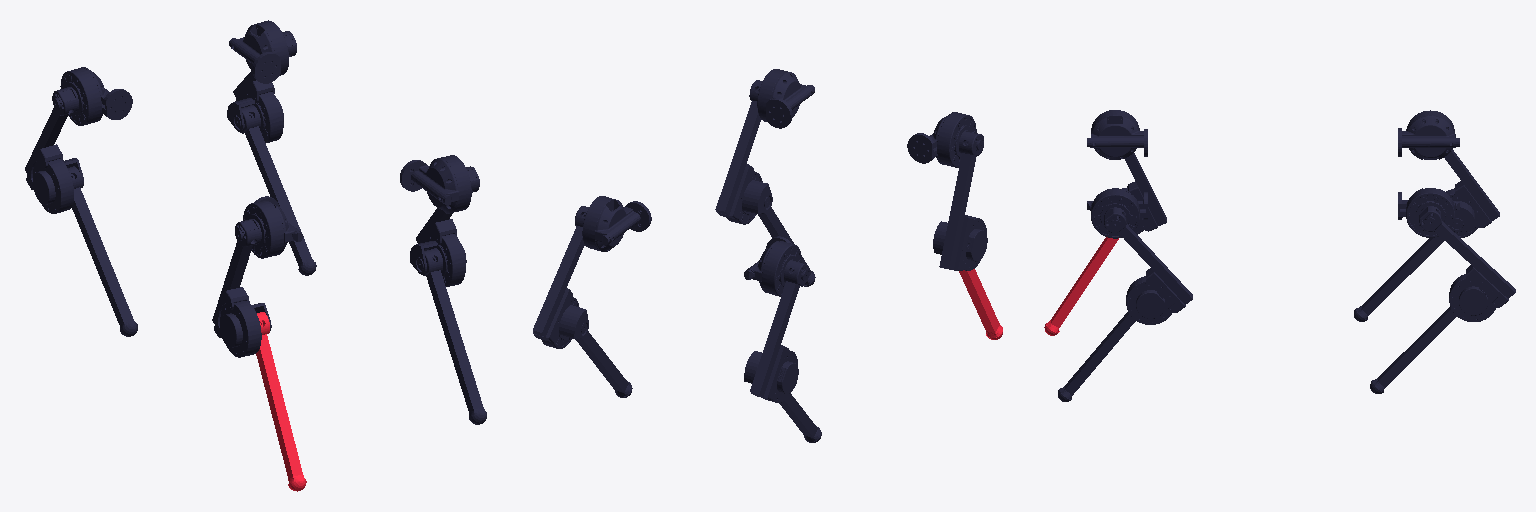
The robot description file, URDF, robot "ruff":
<?xml version="1.0" encoding="utf-8"?>
<!-- This URDF was automatically created by SolidWorks to URDF Exporter! Originally created by [author] ([email redacted])
     Commit Version: 1.6.0-4-g7f85cfe  Build Version: 1.6.7995.38578
     For more information, please see http://wiki.ros.org/sw_urdf_exporter -->
<robot name="ruff">

<!-- ros control plugin -->
  <gazebo>
      <plugin name="gazebo_ros_control" filename="libgazebo_ros_control.so">
          <robotNamespace>/ruff</robotNamespace>
          <robotSimType>gazebo_ros_control/DefaultRobotHWSim</robotSimType>
      </plugin>
  </gazebo>
<!-- adding imu sensor to the base link -->
<!--IMU : joint , link , sensor  -->

  <link
    name="base_link">
    <inertial>
      <origin
        xyz="-0.0142290244244959 -0.00460114334157358 -0.0157981758302379"
        rpy="0 0 0" />
      <mass
        value="2.49007846050021" />
      <inertia
        ixx="0.00625744875770968"
        ixy="-1.59495229293445E-11"
        ixz="-2.61866110672266E-14"
        iyy="0.00489492059233199"
        iyz="7.8598187747419E-15"
        izz="0.00969112831967179" />
    </inertial>
    <visual>
      <origin
        xyz="0 0 0"
        rpy="0 0 0" />
      <geometry>
        <mesh
          filename="../ruff/meshes/base_link.STL" />
      </geometry>
      <material
        name="">
        <color
          rgba="0.7 0.7 0.9 1" />
      </material>
    </visual>
    <collision>
      <origin
        xyz="0 0 0"
        rpy="0 0 0" />
      <geometry>
        <mesh
          filename="../ruff/meshes/base_link.STL" />
      </geometry>
    </collision>
  </link>
  <link
    name="FR1">
    <inertial>
      <origin
        xyz="0.02612 0.00074305 0.061212"
        rpy="0 0 0" />
      <mass
        value="0.35871" />
      <inertia
        ixx="0.00044328"
        ixy="-1.6766E-06"
        ixz="-9.9068E-06"
        iyy="0.0003145"
        iyz="-2.576E-06"
        izz="0.00020521" />
    </inertial>
    <visual>
      <origin
        xyz="0 0 0"
        rpy="0 0 0" />
      <geometry>
        <mesh
          filename="../ruff/meshes/FR1.STL" />
      </geometry>
      <material
        name="">
        <color
          rgba="0.2 0.2 0.3 1" />
      </material>
    </visual>
    <collision>
      <origin
        xyz="0 0 0"
        rpy="0 0 0" />
      <geometry>
        <mesh
          filename="../ruff/meshes/FR1.STL" />
      </geometry>
    </collision>
  </link>
  <joint
    name="FR1_"
    type="revolute">
    <origin
      xyz="-0.16423 -0.26924 -0.015798"
      rpy="-1.5708 -0.011393 3.1416" />
    <parent
      link="base_link" />
    <child
      link="FR1" />
    <axis
      xyz="0 0 1" />
    <limit
      lower="0"
      upper="0"
      effort="200"
      velocity="10" />
  </joint>
  <link
    name="FR2">
    <inertial>
      <origin
        xyz="-0.050266902975153 -0.153493314443097 -0.0344873618774016"
        rpy="0 0 0" />
      <mass
        value="0.421019079143915" />
      <inertia
        ixx="0.000852068112953311"
        ixy="3.19242906120105E-06"
        ixz="-6.61267552894505E-06"
        iyy="0.000307852923020911"
        iyz="-0.000225635506155653"
        izz="0.00065120696734265" />
    </inertial>
    <visual>
      <origin
        xyz="0 0 0"
        rpy="0 0 0" />
      <geometry>
        <mesh
          filename="../ruff/meshes/FR2.STL" />
      </geometry>
      <material
        name="">
        <color
          rgba="0.2 0.2 0.3 1" />
      </material>
    </visual>
    <collision>
      <origin
        xyz="0 0 0"
        rpy="0 0 0" />
      <geometry>
        <mesh
          filename="../ruff/meshes/FR2.STL" />
      </geometry>
    </collision>
  </link>
  <joint
    name="FR2_"
    type="revolute">
    <origin
      xyz="0.018006 0 0.065"
      rpy="-0.03726 0 -3.1416" />
    <parent
      link="FR1" />
    <child
      link="FR2" />
    <axis
      xyz="1 0 0" />
    <limit
      lower="-0.785398"
      upper="0.785398"
      effort="200"
      velocity="10" />
  </joint>
  <link
    name="FR3">
    <inertial>
      <origin
        xyz="0.0199426770443697 -0.075980779995663 0.092845524022024"
        rpy="0 0 0" />
      <mass
        value="0.155935206674882" />
      <inertia
        ixx="0.0011552209842016"
        ixy="-4.6955016006765E-08"
        ixz="5.86784342700648E-08"
        iyy="0.000710580255126011"
        iyz="0.000554725888406585"
        izz="0.000459413413981537" />
    </inertial>
    <visual>
      <origin
        xyz="0 0.06 -0.01"
        rpy="0 0 0" />
      <geometry>
        <mesh
          filename="../ruff/meshes/FR3.STL" />
      </geometry>
      <material
        name="">
        <color
          rgba="1 0.2 0.3 1" />
      </material>
    </visual>
    <collision>
      <origin
        xyz="0 0.06 -0.01"
        rpy="0 0 0" />
      <geometry>
        <mesh
          filename="../ruff/meshes/FR3.STL" />
      </geometry>
    </collision>
  </link>
  <joint
    name="FR3_"
    type="revolute">
    <origin
      xyz="0 -0.1903 -0.02764"
      rpy="-1.7406 0 3.1416" />
    <parent
      link="FR2" />
    <child
      link="FR3" />
    <axis
      xyz="1 0 0" />
    <limit
      lower="-0.785398"
      upper="0.785398"
      effort="200"
      velocity="10" />
  </joint>
  <link
    name="FL1">
    <inertial>
      <origin
        xyz="0.0261197583641308 0.000743054536176027 0.0612123080676893"
        rpy="0 0 0" />
      <mass
        value="0.358709196894451" />
      <inertia
        ixx="0.000443275444835995"
        ixy="-1.67660322189517E-06"
        ixz="-9.90676696217071E-06"
        iyy="0.00031449685518571"
        iyz="-2.57603919878303E-06"
        izz="0.000205207659288229" />
    </inertial>
    <visual>
      <origin
        xyz="0 0 0"
        rpy="0 0 0" />
      <geometry>
        <mesh
          filename="../ruff/meshes/FL1.STL" />
      </geometry>
      <material
        name="">
        <color
          rgba="0.2 0.2 0.3 1" />
      </material>
    </visual>
    <collision>
      <origin
        xyz="0 0 0"
        rpy="0 0 0" />
      <geometry>
        <mesh
          filename="../ruff/meshes/FL1.STL" />
      </geometry>
    </collision>
  </link>
  <joint
    name="FL1_"
    type="revolute">
    <origin
      xyz="0.13577 -0.26924 -0.015798"
      rpy="1.5708 0.011393 0" />
    <parent
      link="base_link" />
    <child
      link="FL1" />
    <axis
      xyz="0 0 1" />
    <limit
      lower="0"
      upper="0"
      effort="200"
      velocity="10" />
  </joint>
  <link
    name="FL2">
    <inertial>
      <origin
        xyz="0.0502668928026236 -0.134428755267542 -0.0817222290827659"
        rpy="0 0 0" />
      <mass
        value="0.421019703345601" />
      <inertia
        ixx="0.000852068973984816"
        ixy="-5.13768905823175E-06"
        ixz="5.24616551512842E-06"
        iyy="0.000479532720674914"
        iyz="-0.000283522017133229"
        izz="0.000479528178086577" />
    </inertial>
    <visual>
      <origin
        xyz="0 0 0"
        rpy="0 0 0" />
      <geometry>
        <mesh
          filename="../ruff/meshes/FL2.STL" />
      </geometry>
      <material
        name="">
        <color
          rgba="0.2 0.2 0.3 1" />
      </material>
    </visual>
    <collision>
      <origin
        xyz="0 0 0"
        rpy="0 0 0" />
      <geometry>
        <mesh
          filename="../ruff/meshes/FL2.STL" />
      </geometry>
    </collision>
  </link>
  <joint
    name="FL2_"
    type="revolute">
    <origin
      xyz="0.018006 0 0.065"
      rpy="-0.088438 0 0" />
    <parent
      link="FL1" />
    <child
      link="FL2" />
    <axis
      xyz="1 0 0" />
    <limit
      lower="-0.785398"
      upper="0.785398"
      effort="200"
      velocity="10" />
  </joint>
  <link
    name="FL3">
    <inertial>
      <origin
        xyz="0.0199426806750425 -0.0857712325916279 0.0854478393872552"
        rpy="0 0 0" />
      <mass
        value="0.155935356866044" />
      <inertia
        ixx="0.0011552225827831"
        ixy="-5.31526893077721E-08"
        ixz="5.30688563552087E-08"
        iyy="0.000584997668322056"
        iyz="0.000568764371262009"
        izz="0.000584997612289208" />
    </inertial>
    <visual>
      <origin
        xyz="0 0 0"
        rpy="0 0 0" />
      <geometry>
        <mesh
          filename="../ruff/meshes/FL3.STL" />
      </geometry>
      <material
        name="">
        <color
          rgba="0.2 0.2 0.3 1" />
      </material>
    </visual>
    <collision>
      <origin
        xyz="0 0 0"
        rpy="0 0 0" />
      <geometry>
        <mesh
          filename="../ruff/meshes/FL3.STL" />
      </geometry>
    </collision>
  </link>
  <joint
    name="FL3_"
    type="revolute">
    <origin
      xyz="0 -0.1703 -0.08624"
      rpy="0.22102 0 0" />
    <parent
      link="FL2" />
    <child
      link="FL3" />
    <axis
      xyz="1 0 0" />
    <limit
      lower="-0.785398"
      upper="0.785398"
      effort="200"
      velocity="10" />
  </joint>
  <link
    name="RR1">
    <inertial>
      <origin
        xyz="0.0261197575907565 0.000743055572698423 0.0612123099905451"
        rpy="0 0 0" />
      <mass
        value="0.358709202698084" />
      <inertia
        ixx="0.0004432754734531"
        ixy="-1.67659525417638E-06"
        ixz="-9.90676738149078E-06"
        iyy="0.000314496875947001"
        iyz="-2.57604485783384E-06"
        izz="0.000205207645858766" />
    </inertial>
    <visual>
      <origin
        xyz="0 0 0"
        rpy="0 0 0" />
      <geometry>
        <mesh
          filename="../ruff/meshes/RR1.STL" />
      </geometry>
      <material
        name="">
        <color
          rgba="0.2 0.2 0.3 1" />
      </material>
    </visual>
    <collision>
      <origin
        xyz="0 0 0"
        rpy="0 0 0" />
      <geometry>
        <mesh
          filename="../ruff/meshes/RR1.STL" />
      </geometry>
    </collision>
  </link>
  <joint
    name="RR1_"
    type="revolute">
    <origin
      xyz="-0.16423 0.23276 -0.015798"
      rpy="1.5708 0.041554 -3.1416" />
    <parent
      link="base_link" />
    <child
      link="RR1" />
    <axis
      xyz="0 0 1" />
    <limit
      lower="0"
      upper="0"
      effort="200"
      velocity="10" />
  </joint>
  <link
    name="RR2">
    <inertial>
      <origin
        xyz="-0.06160606177425 -0.134428666689823 -0.0817221421337367"
        rpy="0 0 0" />
      <mass
        value="0.421019010101391" />
      <inertia
        ixx="0.0008520681443469"
        ixy="5.13787082493573E-06"
        ixz="-5.2460513438586E-06"
        iyy="0.00047953206951041"
        iyz="-0.000283521501202046"
        izz="0.000479527873883991" />
    </inertial>
    <visual>
      <origin
        xyz="0 0 0"
        rpy="0 0 0" />
      <geometry>
        <mesh
          filename="../ruff/meshes/RR2.STL" />
      </geometry>
      <material
        name="">
        <color
          rgba="0.2 0.2 0.3 1" />
      </material>
    </visual>
    <collision>
      <origin
        xyz="0 0 0"
        rpy="0 0 0" />
      <geometry>
        <mesh
          filename="../ruff/meshes/RR2.STL" />
      </geometry>
    </collision>
  </link>
  <joint
    name="RR2_"
    type="revolute">
    <origin
      xyz="0.0066673 0 0.065"
      rpy="2.9579 0 -3.1416" />
    <parent
      link="RR1" />
    <child
      link="RR2" />
    <axis
      xyz="1 0 0" />
    <limit
      lower="-0.785398"
      upper="0.785398"
      effort="200"
      velocity="10" />
  </joint>
  <link
    name="RR3">
    <inertial>
      <origin
        xyz="0.0296328160267109 -0.085771230190593 0.0854478369707631"
        rpy="0 0 0" />
      <mass
        value="0.155935360292347" />
      <inertia
        ixx="0.00115522258076454"
        ixy="-5.31359222986219E-08"
        ixz="5.30531767962972E-08"
        iyy="0.000584997673259117"
        iyz="0.00056876436927348"
        izz="0.000584997605086957" />
    </inertial>
    <visual>
      <origin
        xyz="0 0 0"
        rpy="0 0 0" />
      <geometry>
        <mesh
          filename="../ruff/meshes/RR3.STL" />
      </geometry>
      <material
        name="">
        <color
          rgba="0.2 0.2 0.3 1" />
      </material>
    </visual>
    <collision>
      <origin
        xyz="0 0 0"
        rpy="0 0 0" />
      <geometry>
        <mesh
          filename="../ruff/meshes/RR3.STL" />
      </geometry>
    </collision>
  </link>
  <joint
    name="RR3_"
    type="revolute">
    <origin
      xyz="-0.001649 -0.1703 -0.08624"
      rpy="-1.7898 0 3.1416" />
    <parent
      link="RR2" />
    <child
      link="RR3" />
    <axis
      xyz="1 0 0" />
    <limit
      lower="-0.785398"
      upper="0.785398"
      effort="200"
      velocity="10" />
  </joint>
  <link
    name="RL1">
    <inertial>
      <origin
        xyz="0.0261197595847295 0.000743054762768043 0.0612123104283538"
        rpy="0 0 0" />
      <mass
        value="0.358709167139821" />
      <inertia
        ixx="0.000443275455711473"
        ixy="-1.67659568857422E-06"
        ixz="-9.90676773153059E-06"
        iyy="0.0003144968595342"
        iyz="-2.57604410511438E-06"
        izz="0.000205207644055625" />
    </inertial>
    <visual>
      <origin
        xyz="0 0 0"
        rpy="0 0 0" />
      <geometry>
        <mesh
          filename="../ruff/meshes/RL1.STL" />
      </geometry>
      <material
        name="">
        <color
          rgba="0.2 0.2 0.3 1" />
      </material>
    </visual>
    <collision>
      <origin
        xyz="0 0 0"
        rpy="0 0 0" />
      <geometry>
        <mesh
          filename="../ruff/meshes/RL1.STL" />
      </geometry>
    </collision>
  </link>
  <joint
    name="RL1_"
    type="revolute">
    <origin
      xyz="0.13577 0.23276 -0.015798"
      rpy="-1.5708 -0.041554 0" />
    <parent
      link="base_link" />
    <child
      link="RL1" />
    <axis
      xyz="0 0 1" />
    <limit
      lower="0"
      upper="0"
      effort="200"
      velocity="10" />
  </joint>
  <link
    name="RL2">
    <inertial>
      <origin
        xyz="0.0603129184476369 -0.134428752967446 -0.0817222271885714"
        rpy="0 0 0" />
      <mass
        value="0.421019719784907" />
      <inertia
        ixx="0.0008520689961023"
        ixy="-5.13768963299562E-06"
        ixz="5.24616237933414E-06"
        iyy="0.000479532792814961"
        iyz="-0.00028352204711343"
        izz="0.000479528139349383" />
    </inertial>
    <visual>
      <origin
        xyz="0 0 0"
        rpy="0 0 0" />
      <geometry>
        <mesh
          filename="../ruff/meshes/RL2.STL" />
      </geometry>
      <material
        name="">
        <color
          rgba="0.2 0.2 0.3 1" />
      </material>
    </visual>
    <collision>
      <origin
        xyz="0 0 0"
        rpy="0 0 0" />
      <geometry>
        <mesh
          filename="../ruff/meshes/RL2.STL" />
      </geometry>
    </collision>
  </link>
  <joint
    name="RL2_"
    type="revolute">
    <origin
      xyz="0.0079604 0 0.065"
      rpy="3.1416 0 0" />
    <parent
      link="RL1" />
    <child
      link="RL2" />
    <axis
      xyz="1 0 0" />
    <limit
      lower="-0.785398"
      upper="0.785398"
      effort="200"
      velocity="10" />
  </joint>
  <link
    name="RL3">
    <inertial>
      <origin
        xyz="0.0296482026107442 -0.0857712386297975 0.0854478464758481"
        rpy="0 0 0" />
      <mass
        value="0.155935344543851" />
      <inertia
        ixx="0.00115522257770998"
        ixy="-5.31952547069513E-08"
        ixz="5.31121279487997E-08"
        iyy="0.000584997666989995"
        iyz="0.00056876437115729"
        izz="0.000584997607963064" />
    </inertial>
    <visual>
      <origin
        xyz="0 0 0"
        rpy="0 0 0" />
      <geometry>
        <mesh
          filename="../ruff/meshes/RL3.STL" />
      </geometry>
      <material
        name="">
        <color
          rgba="0.2 0.2 0.3 1" />
      </material>
    </visual>
    <collision>
      <origin
        xyz="0 0 0"
        rpy="0 0 0" />
      <geometry>
        <mesh
          filename="../ruff/meshes/RL3.STL" />
      </geometry>
    </collision>
  </link>
  <joint
    name="RL3_"
    type="revolute">
    <origin
      xyz="0.0003405 -0.1703 -0.08624"
      rpy="0.035292 0 0" />
    <parent
      link="RL2" />
    <child
      link="RL3" />
    <axis
      xyz="1 0 0" />
    <limit
      lower="-0.785398"
      upper="0.785398"
      effort="200"
      velocity="10" />
  </joint>

<!-- Transmission for the joints -->
<transmission name="FL1_trans">
<type>transmission_interface/SimpleTransmission</type>
<actuator name="FL1_motor">
  <mechanicalReduction>1</mechanicalReduction>
  <hardwareInterface>EffortJointInterface</hardwareInterface>
</actuator>
<joint name="FL1_">
  <hardwareInterface>hardware_interface/EffortJointInterface</hardwareInterface>
</joint>
</transmission>
<transmission name="FL2_trans">
<type>transmission_interface/SimpleTransmission</type>
<actuator name="FL2_motor">
  <mechanicalReduction>1</mechanicalReduction>
</actuator>
<joint name="FL2_">
  <hardwareInterface>hardware_interface/EffortJointInterface</hardwareInterface>
</joint>
</transmission>
<transmission name="FL3_trans">
<type>transmission_interface/SimpleTransmission</type>
<actuator name="FL3_motor">
  <mechanicalReduction>1</mechanicalReduction>
</actuator>
<joint name="FL3_">
  <hardwareInterface>hardware_interface/EffortJointInterface</hardwareInterface>
</joint>
</transmission>
<transmission name="FR1_trans">
<type>transmission_interface/SimpleTransmission</type>
<actuator name="FR1_motor">
  <mechanicalReduction>1</mechanicalReduction>
</actuator>
<joint name="FR1_">
  <hardwareInterface>hardware_interface/EffortJointInterface</hardwareInterface>
</joint>
</transmission>
<transmission name="FR2_trans">
<type>transmission_interface/SimpleTransmission</type>
<actuator name="FR2_motor">
  <mechanicalReduction>1</mechanicalReduction>
</actuator>
<joint name="FR2_">
  <hardwareInterface>hardware_interface/EffortJointInterface</hardwareInterface>
</joint>
</transmission>
<transmission name="FR3_trans">
<type>transmission_interface/SimpleTransmission</type>
<actuator name="FR3_motor">
  <mechanicalReduction>1</mechanicalReduction>
</actuator>
<joint name="FR3_">
  <hardwareInterface>hardware_interface/EffortJointInterface</hardwareInterface>
</joint>
</transmission>
<transmission name="RL1_trans">
<type>transmission_interface/SimpleTransmission</type>
<actuator name="RL1_motor">
  <mechanicalReduction>1</mechanicalReduction>
</actuator>
<joint name="RL1_">
  <hardwareInterface>hardware_interface/EffortJointInterface</hardwareInterface>
</joint>
</transmission>
<transmission name="RL2_trans">
<type>transmission_interface/SimpleTransmission</type>
<actuator name="RL2_motor">
  <mechanicalReduction>1</mechanicalReduction>
</actuator>
<joint name="RL2_">
  <hardwareInterface>hardware_interface/EffortJointInterface</hardwareInterface>
</joint>
</transmission>
<transmission name="RL3_trans">
<type>transmission_interface/SimpleTransmission</type>
<actuator name="RL3_motor">
  <mechanicalReduction>1</mechanicalReduction>
</actuator>
<joint name="RL3_">
  <hardwareInterface>hardware_interface/EffortJointInterface</hardwareInterface>
</joint>
</transmission>

<transmission name="RR1_trans">
<type>transmission_interface/SimpleTransmission</type>
<actuator name="RR1_motor">
  <mechanicalReduction>1</mechanicalReduction>
</actuator>
<joint name="RR1_">
  <hardwareInterface>hardware_interface/EffortJointInterface</hardwareInterface>
</joint>
</transmission>

<transmission name="RR2_trans">
<type>transmission_interface/SimpleTransmission</type>
<actuator name="RR2_motor">
  <mechanicalReduction>1</mechanicalReduction>
</actuator>
<joint name="RR2_">
  <hardwareInterface>hardware_interface/EffortJointInterface</hardwareInterface>
</joint>
</transmission>
<transmission name="RR3_trans">
<type>transmission_interface/SimpleTransmission</type>
<actuator name="RR3_motor">
  <mechanicalReduction>1</mechanicalReduction>
</actuator>
<joint name="RR3_">
  <hardwareInterface>hardware_interface/EffortJointInterface</hardwareInterface>
</joint>
</transmission>
</robot>

--- Render facts (derived) ---
Views: 3 orthographic renders of the robot side by side, from view 1: azimuth 30°, elevation 25°; view 2: azimuth 150°, elevation 25°; view 3: azimuth 270°, elevation 25°.
Model ruff with 13 links and 12 joints (12 revolute), rooted at base_link, posed every joint at zero.
Links seen in each view (by area): view 1: FR2, RR2, FL3, FL1, FL2, FR3, RR3, RL3, RR1, RL1, RL2, FR1; view 2: FR2, RR2, FL2, RL2, RL1, FL1, FR1, RR1, RL3, FR3, RR3, FL3; view 3: RL2, FL2, RR1, FR1, RR2, FL1, RL1, RR3, RL3, FR3, FL3, FR2.
Boxes of the visible links, left/top/right/bottom form: FR2: left=212, top=219, right=271, bottom=357; RR2: left=25, top=87, right=83, bottom=213; FL3: left=417, top=248, right=486, bottom=424; FL1: left=400, top=155, right=471, bottom=213; FL2: left=410, top=166, right=479, bottom=286; FR3: left=256, top=312, right=306, bottom=491; RR3: left=68, top=166, right=137, bottom=336; RL3: left=235, top=105, right=316, bottom=275; RR1: left=60, top=67, right=132, bottom=125; RL1: left=229, top=20, right=288, bottom=83; RL2: left=227, top=31, right=296, bottom=142; FR1: left=243, top=196, right=303, bottom=258; FR2: left=933, top=130, right=987, bottom=270; RR2: left=744, top=259, right=809, bottom=402; FL2: left=715, top=80, right=772, bottom=224; RL2: left=533, top=206, right=588, bottom=348; RL1: left=582, top=196, right=651, bottom=251; FL1: left=757, top=69, right=814, bottom=128; FR1: left=907, top=112, right=976, bottom=167; RR1: left=744, top=236, right=801, bottom=296; RL3: left=575, top=322, right=632, bottom=397; FR3: left=959, top=269, right=1002, bottom=339; RR3: left=779, top=393, right=821, bottom=442; FL3: left=758, top=195, right=815, bottom=286; RL2: left=1419, top=206, right=1515, bottom=321; FL2: left=1104, top=207, right=1192, bottom=324; RR1: left=1398, top=110, right=1459, bottom=159; FR1: left=1087, top=110, right=1147, bottom=159; RR2: left=1444, top=149, right=1499, bottom=237; FL1: left=1087, top=188, right=1147, bottom=238; RL1: left=1398, top=188, right=1459, bottom=237; RR3: left=1354, top=217, right=1463, bottom=321; RL3: left=1370, top=307, right=1456, bottom=393; FR3: left=1044, top=237, right=1118, bottom=335; FL3: left=1058, top=312, right=1135, bottom=401; FR2: left=1122, top=153, right=1166, bottom=234.
Size in the robot's own frame: 0.4999 by 0.9446 by 0.497 metres.
Meshes: 13 distinct files referenced, 12 mesh visuals loaded (12 binary STL); not drawn: 1 (reference not matched to a file when rendering).
